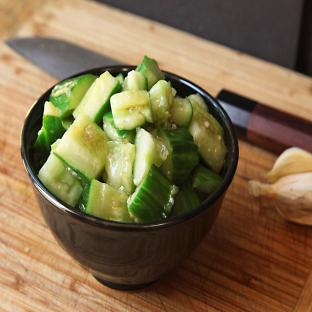Cucumber: (54, 114, 108, 182), (128, 166, 178, 222), (189, 103, 226, 173), (38, 154, 82, 206), (160, 128, 199, 184), (81, 71, 122, 124), (133, 128, 168, 185), (50, 74, 96, 117), (86, 180, 133, 222), (104, 140, 136, 195), (110, 90, 153, 130), (35, 102, 65, 159), (169, 177, 199, 217), (103, 111, 136, 143), (73, 77, 98, 118), (150, 80, 173, 123), (136, 56, 164, 89), (193, 166, 222, 194), (170, 98, 192, 126), (187, 93, 208, 111), (128, 71, 147, 90), (78, 183, 90, 212), (62, 116, 74, 130), (116, 73, 124, 84), (123, 77, 127, 91), (172, 87, 176, 97)
